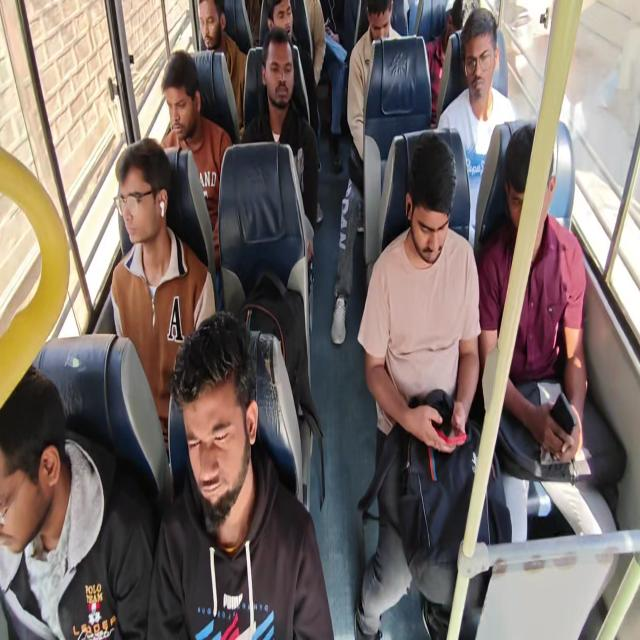person: (475, 122, 622, 634), (353, 130, 483, 638), (146, 310, 335, 638), (0, 364, 156, 639), (110, 137, 216, 464), (330, 0, 405, 345), (436, 8, 517, 247), (240, 26, 320, 258), (160, 50, 233, 268), (260, 0, 320, 139), (197, 0, 247, 129), (424, 0, 464, 126)
